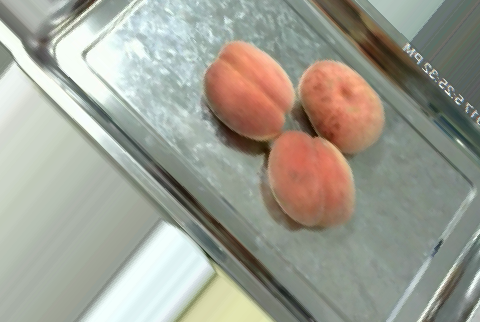Peach: (266, 130, 356, 228), (295, 56, 385, 154), (203, 42, 292, 139)
